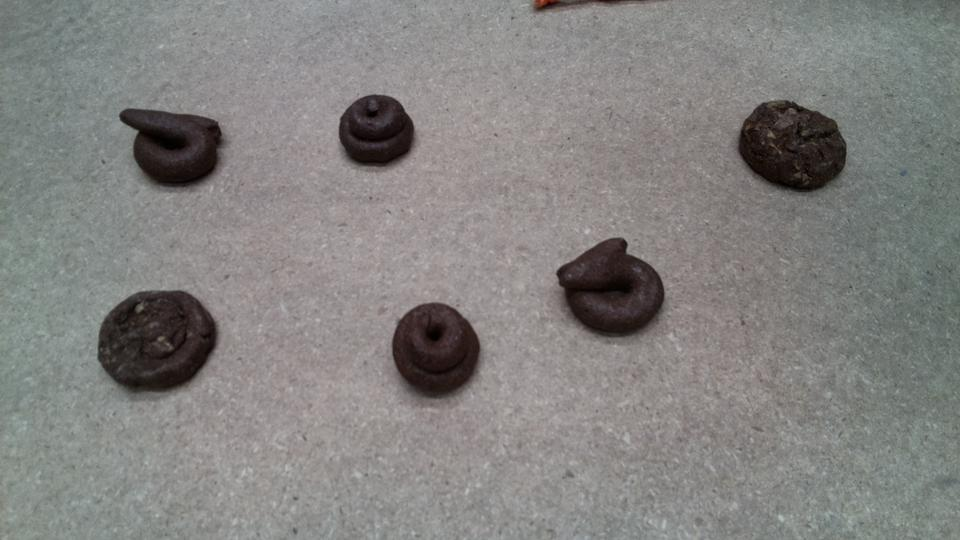poop: (94, 284, 220, 397), (554, 233, 671, 341), (733, 97, 851, 198), (114, 105, 227, 189), (389, 300, 481, 402), (335, 91, 420, 172)
